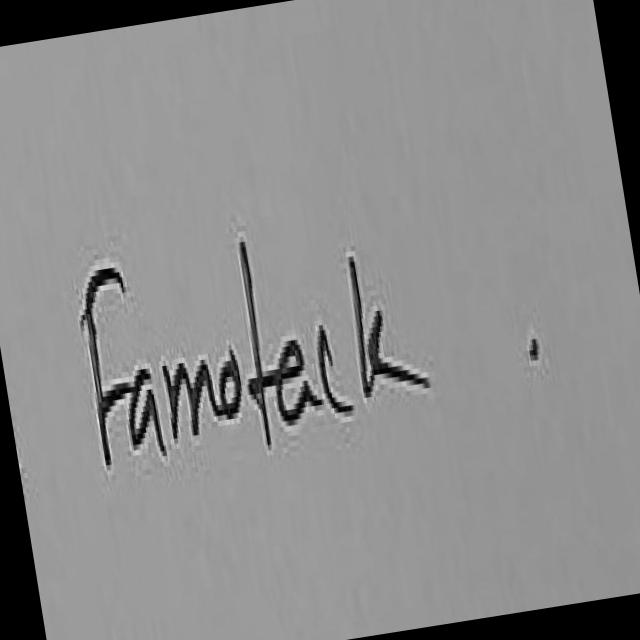F: (80, 271, 133, 463)
a: (276, 339, 323, 422), (129, 359, 167, 453)
c: (316, 325, 355, 417)
k: (348, 259, 431, 397)
m: (163, 360, 226, 439)
o: (219, 357, 243, 427)
t: (240, 242, 278, 453)
